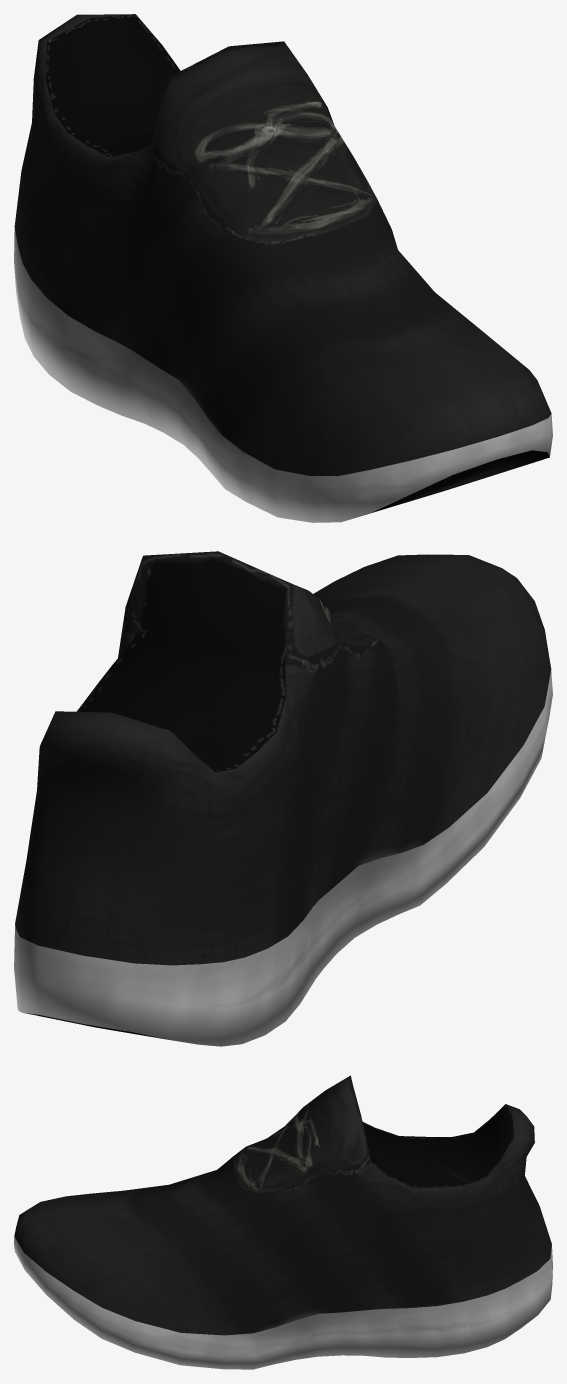
The model's file is Left_Shoe.obj.
3 renders of one model, top to bottom at view 1: azimuth 30°, elevation 25°; view 2: azimuth 150°, elevation 25°; view 3: azimuth 270°, elevation 25°, orthographic. The views are drawn at different scales.
Parts seen in each view (by area): view 1: Left_Shoe; view 2: Left_Shoe; view 3: Left_Shoe.
Boxes of the visible parts, <box> form: Left_Shoe: <box>14,14,552,522</box>; Left_Shoe: <box>14,551,552,1046</box>; Left_Shoe: <box>14,1075,552,1369</box>.
Size of the model in its own units: 0.1083 by 0.144 by 0.2904.
1 material, 1 textured.
